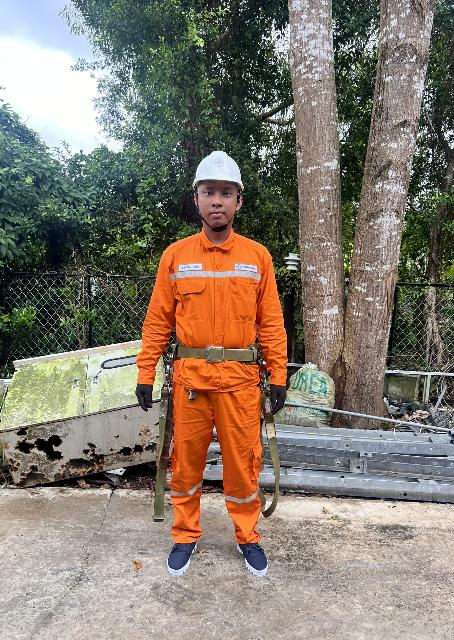gloves: (130, 371, 169, 418), (265, 381, 291, 410)
harness: (162, 336, 268, 368)
helmet: (185, 149, 248, 192)
shoes: (233, 534, 273, 578), (160, 538, 199, 576)
